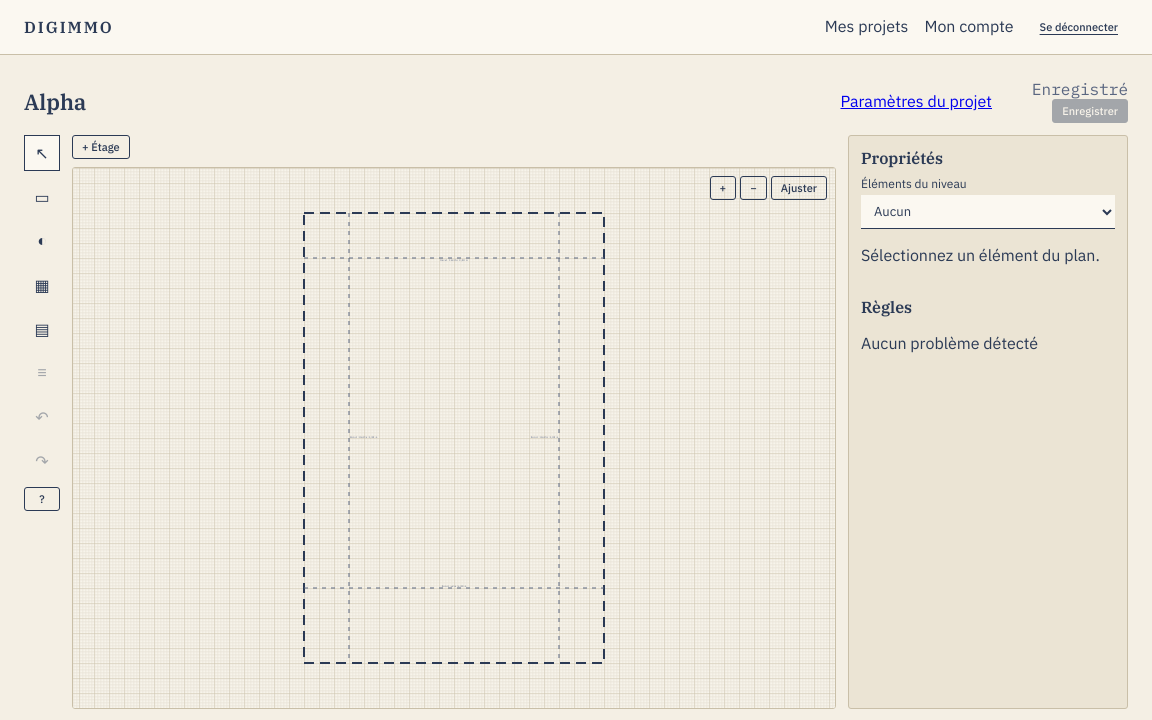
Test: sauvegarde automatique › 413 et 404 : message affiché, sans nouvel essai
The width and height of the screenshot is (1152, 720).
Expected: the picture named "Plan du projet" is shown, 73,168 -> 835,708
Click the button "+ Étage": click(101, 147) 72,135 -> 130,159
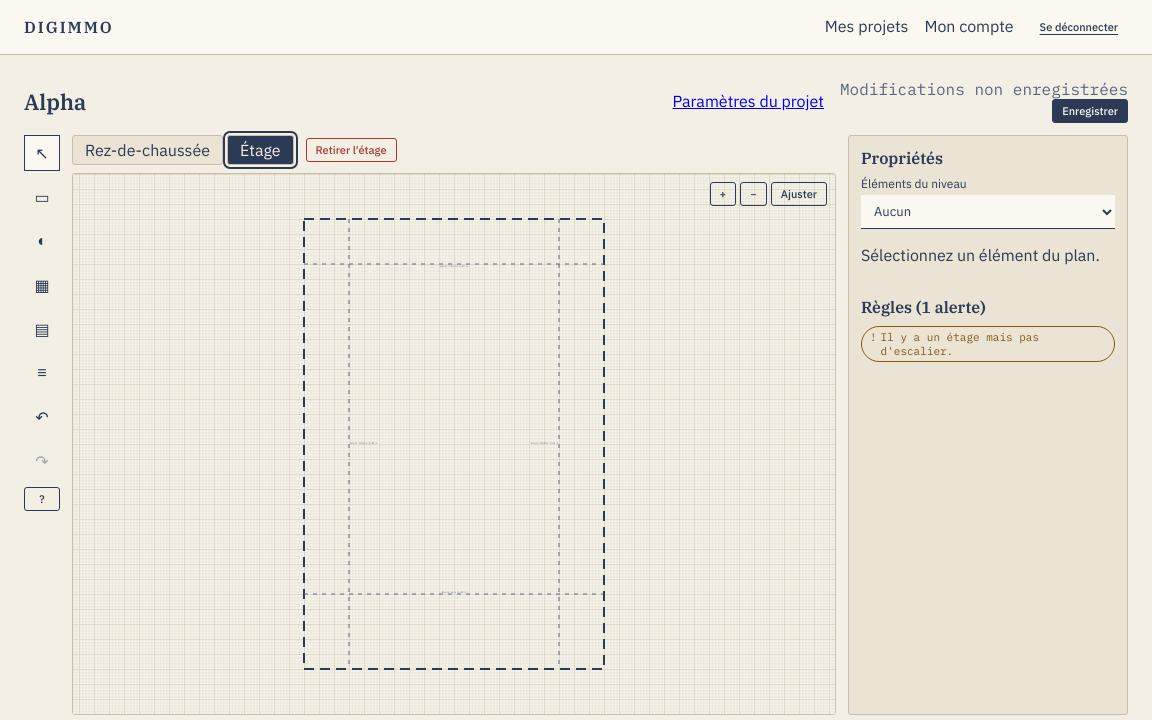
Click the button "Enregistrer": click(1090, 111) 1052,99 -> 1128,123
Wait 30000 ms
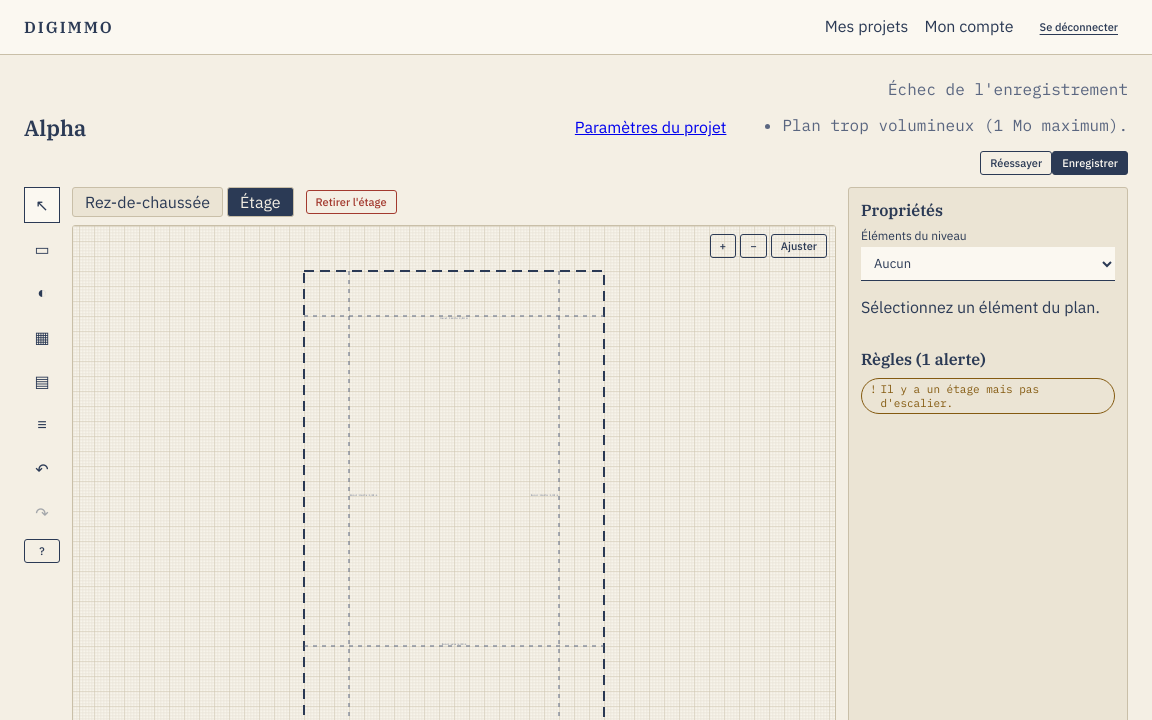
Result: the list item "Plan trop volumineux (1 Mo maximum)." is shown at 782,115 -> 1128,135
